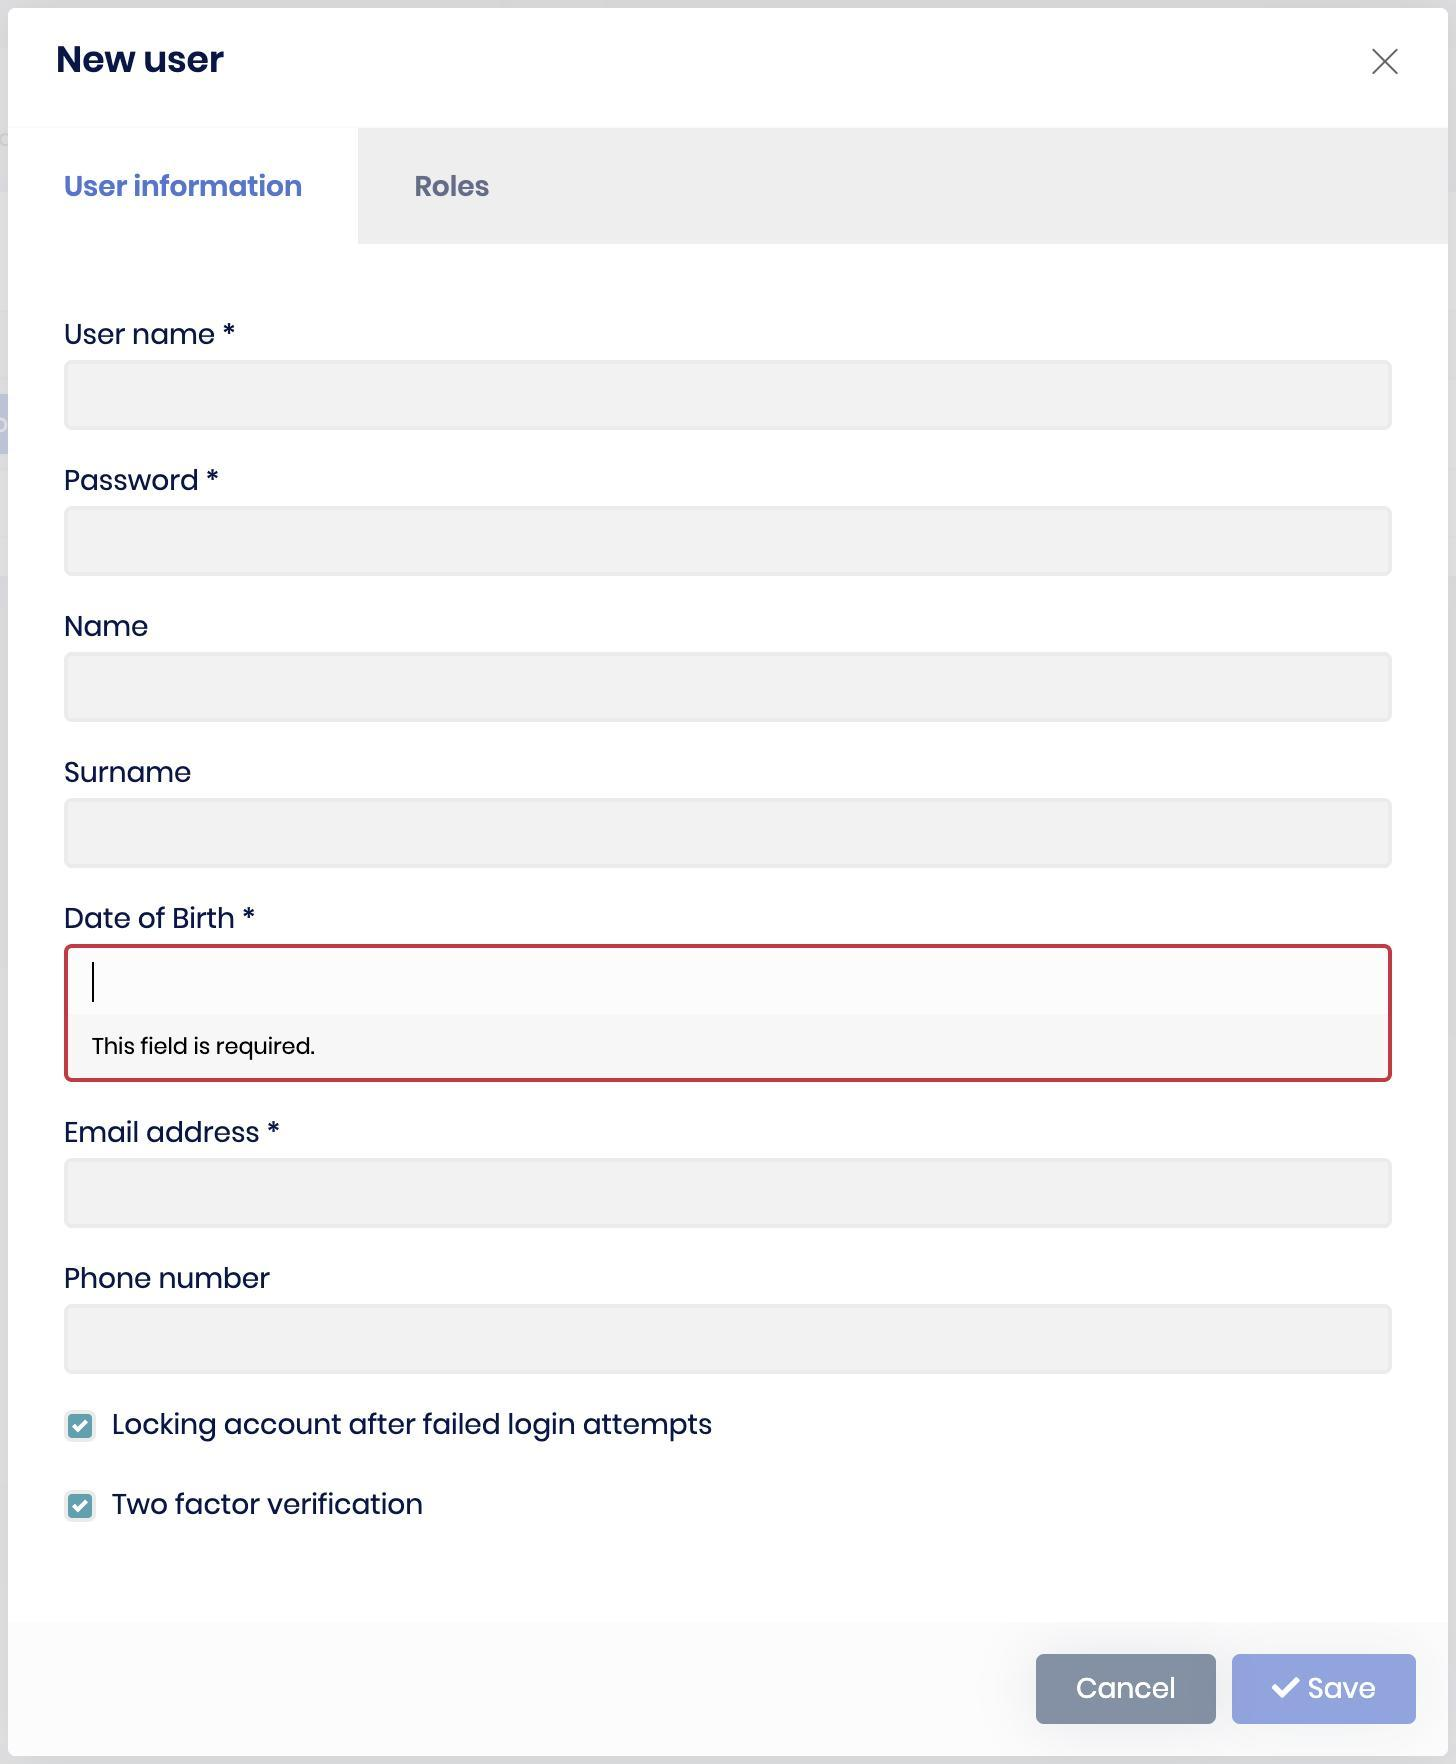button: (1233, 1651, 1419, 1730), (1036, 1654, 1216, 1729)
checkbox: (63, 1489, 100, 1524), (63, 1412, 101, 1446)
icon: (1364, 40, 1409, 86)
input: (64, 501, 1389, 582), (64, 363, 1394, 437), (62, 1159, 1396, 1229), (66, 1304, 1386, 1374), (70, 656, 1392, 719), (62, 804, 1394, 864)
label: (105, 1401, 716, 1446), (56, 161, 306, 210), (31, 34, 245, 89), (108, 1491, 450, 1524), (66, 1254, 294, 1301), (51, 309, 246, 359), (62, 901, 278, 941), (51, 744, 215, 796), (51, 596, 171, 661), (51, 462, 249, 500), (45, 1119, 305, 1146), (409, 155, 508, 211)
